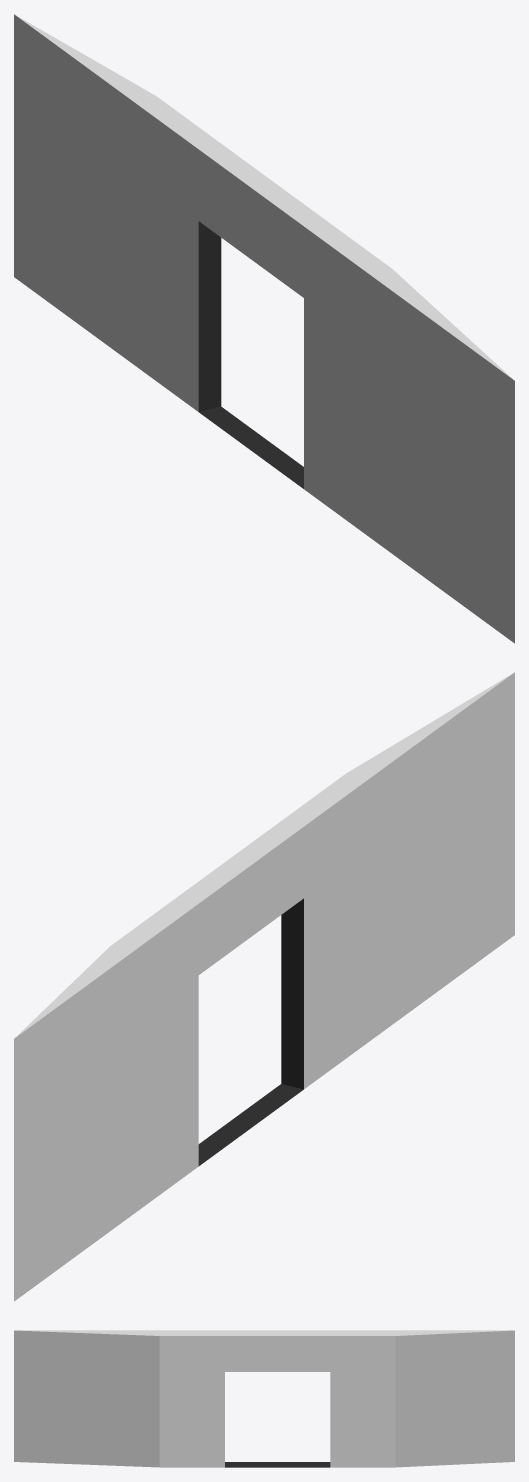
The model's file is Bridge_RoomFill.fbx.
3 views of the same model, one above another, from view 1: azimuth 30°, elevation 25°; view 2: azimuth 150°, elevation 25°; view 3: azimuth 270°, elevation 25° (orthographic). The views are drawn at different scales.
Parts seen in each view (by area): view 1: Bridge_RoomFill; view 2: Bridge_RoomFill; view 3: Bridge_RoomFill.
Part boxes in pixels (bbox=[...]): Bridge_RoomFill: bbox=[14, 14, 514, 643]; Bridge_RoomFill: bbox=[14, 672, 514, 1301]; Bridge_RoomFill: bbox=[14, 1330, 514, 1467].
Size of the model in its own units: 100 by 1100 by 3800.
